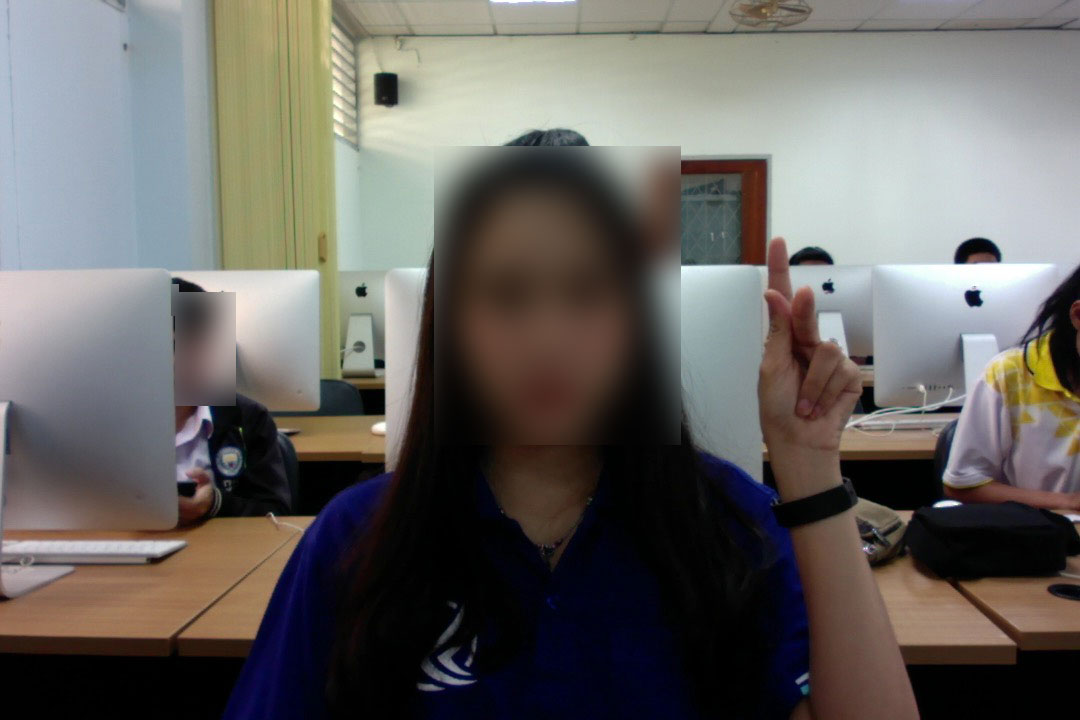ko: (745, 229, 875, 474)
